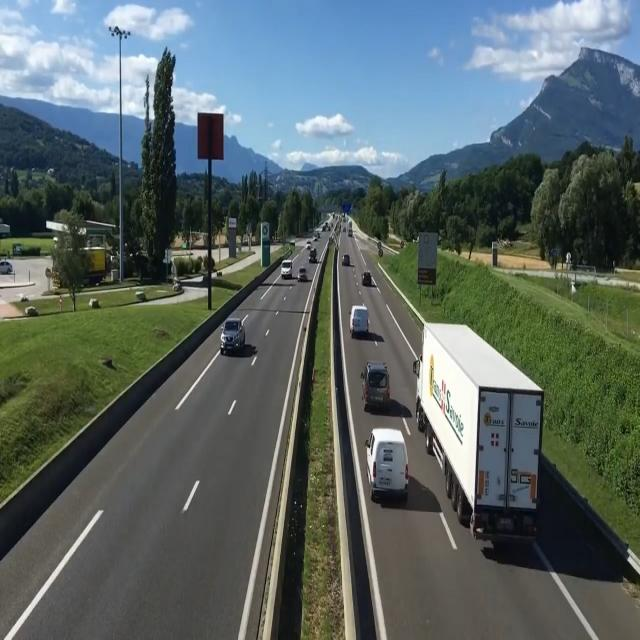car: (367, 426, 408, 508), (363, 358, 392, 416), (220, 315, 252, 358), (351, 305, 372, 341), (280, 257, 294, 283), (361, 268, 375, 290)
truck: (412, 314, 542, 580)
